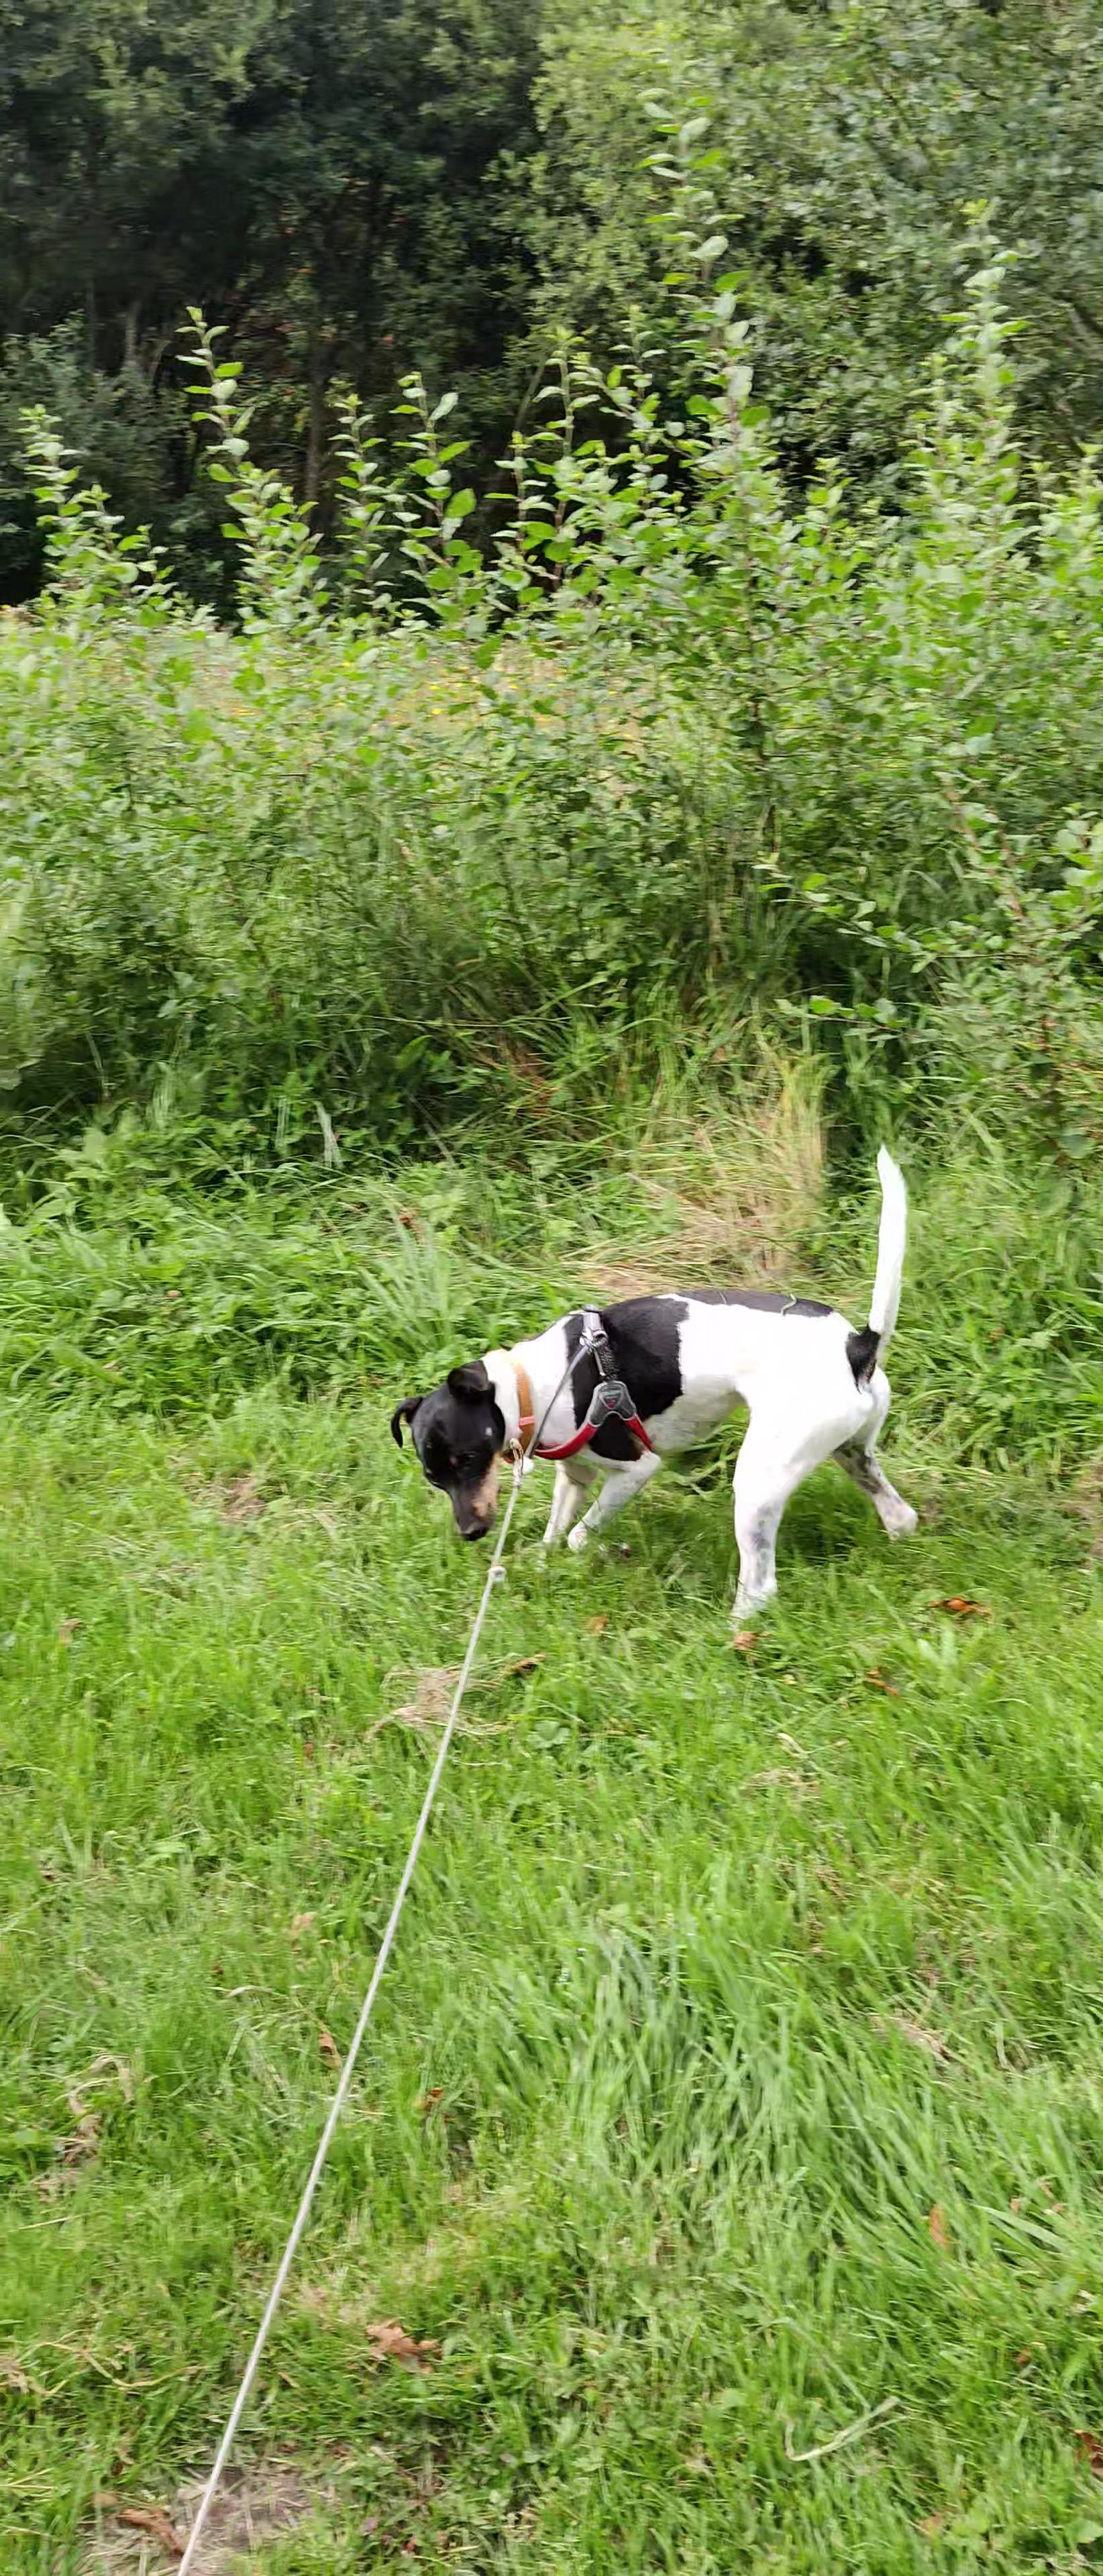Dog: (388, 1135, 930, 1626)
